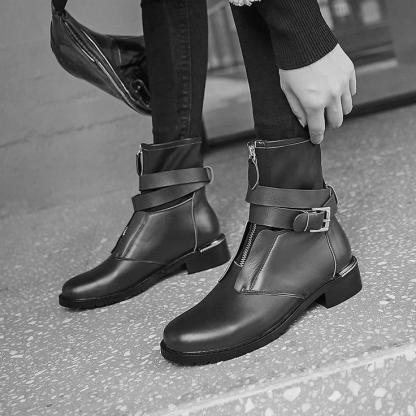ankle: (184, 204, 191, 210), (321, 247, 327, 252)
heel: (215, 230, 220, 236), (352, 260, 357, 264)
left_foot: (161, 242, 368, 370)
pinky: (224, 337, 230, 344), (75, 279, 78, 281)
right_foot: (60, 164, 234, 307)
toe: (165, 334, 173, 341), (89, 290, 93, 296)
